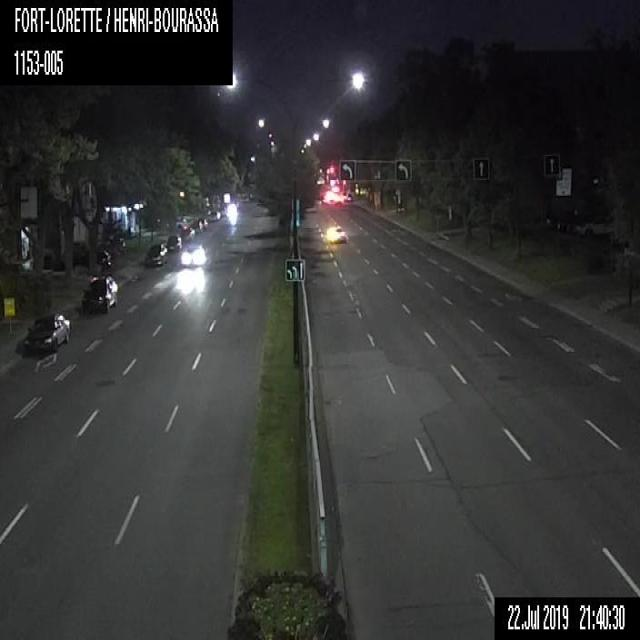vehicle: (15, 311, 71, 352), (78, 273, 119, 312), (62, 249, 110, 270), (181, 242, 207, 266), (144, 243, 167, 265), (326, 226, 346, 242), (167, 234, 180, 252), (179, 225, 193, 241), (207, 209, 219, 221), (189, 219, 201, 230), (175, 217, 186, 228), (199, 217, 207, 228)
